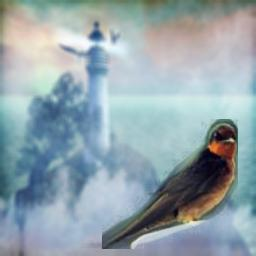Swallow: (102, 119, 238, 249)
